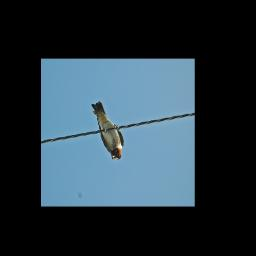Swallow: (90, 101, 124, 162)
